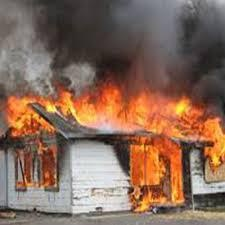fire: (0, 89, 67, 190)
